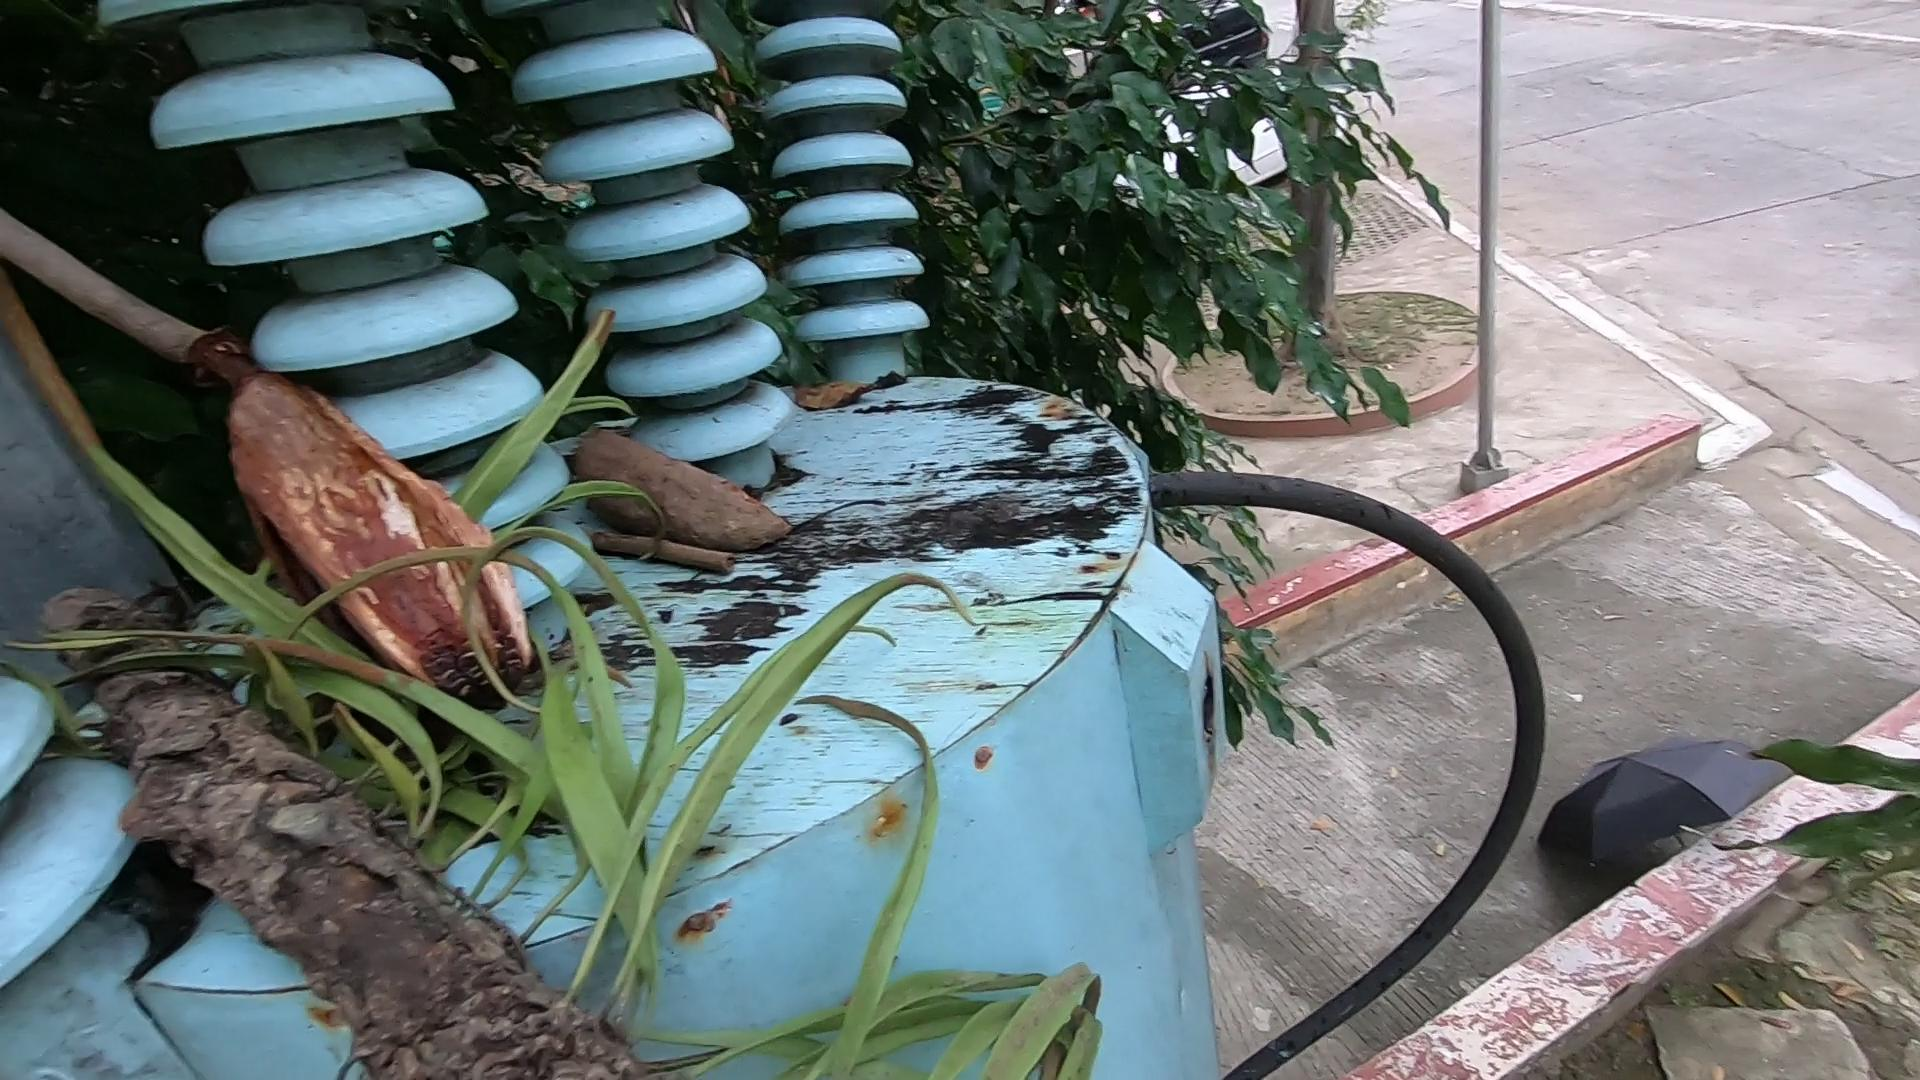branch with leaves: (12, 444, 1031, 1080)
leaf: (795, 367, 943, 463)
mahogany fruit: (195, 345, 537, 688), (570, 390, 825, 568)
tree branch: (8, 189, 241, 423), (558, 502, 738, 580)
